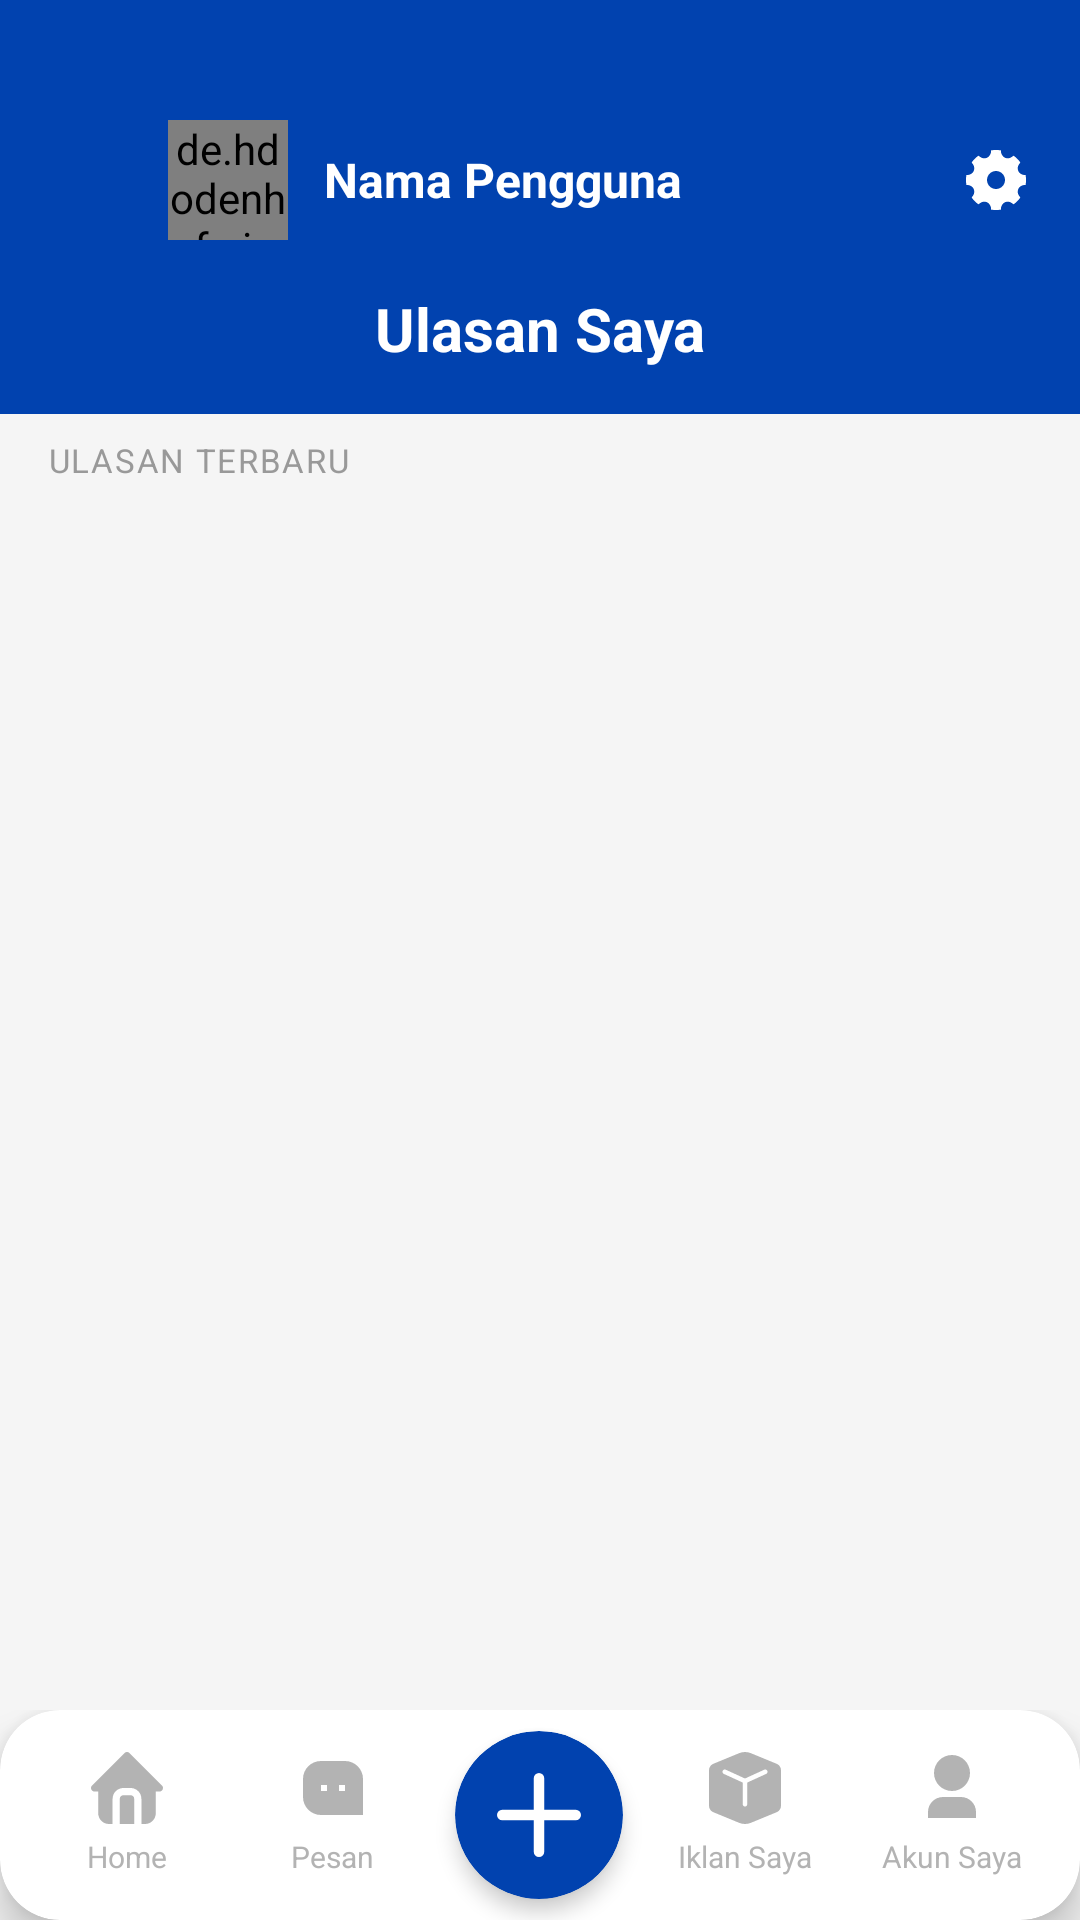

Point at icon controls on the screen. Image size 1080px×1920px, points as [x,y].
plus: [539,1815]
Settings: [996,180]
